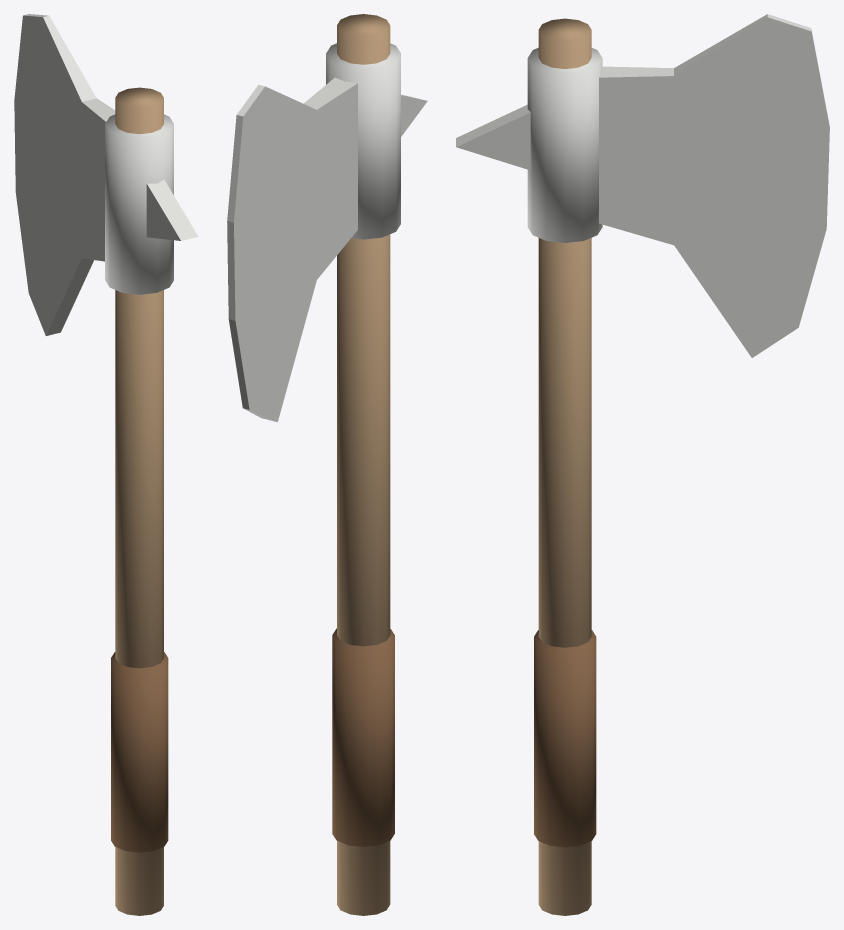
Rendered from axe.glb.
The picture shows the model from 3 angles, left to right: view 1: azimuth 30°, elevation 25°; view 2: azimuth 150°, elevation 25°; view 3: azimuth 270°, elevation 25°; orthographic projection. The views are drawn at different scales.
Visible parts, largest first — view 1: Axe; view 2: Axe; view 3: Axe.
Part boxes in pixels (<box>): Axe: <box>14,14,198,915</box>; Axe: <box>227,14,427,915</box>; Axe: <box>456,14,829,915</box>.
Size of the model in its own units: 0.048 by 0.63 by 0.24.
